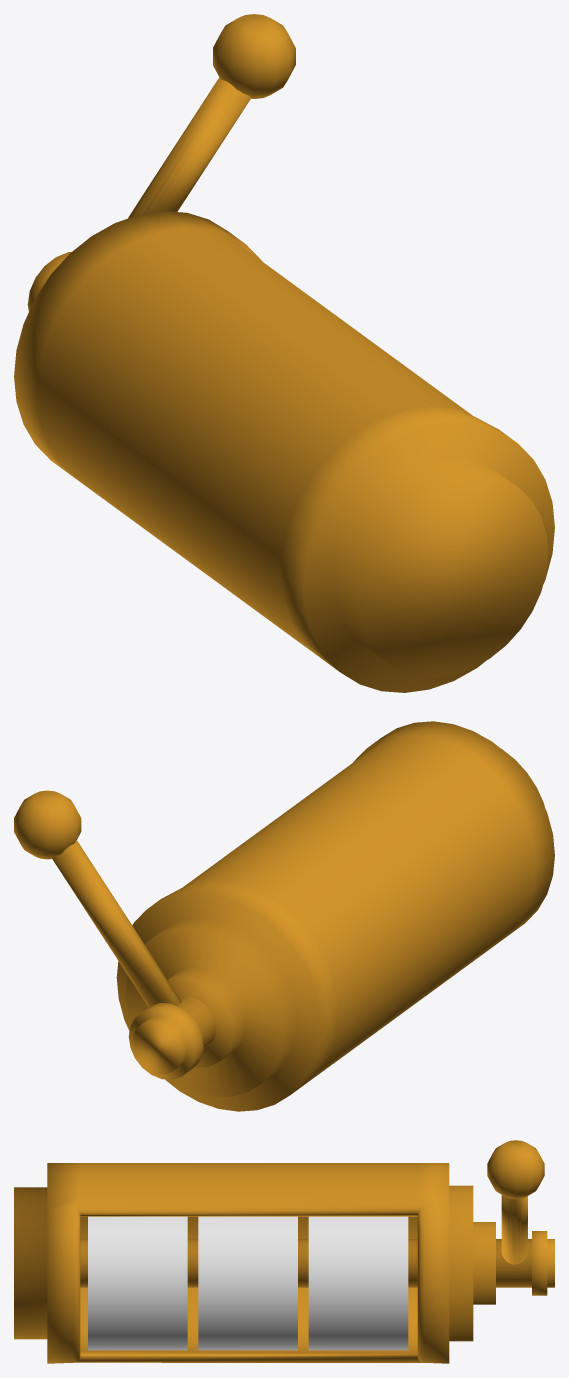
Rendered from slot1.fbx.
The picture shows the model from 3 angles, top to bottom: view 1: azimuth 30°, elevation 25°; view 2: azimuth 150°, elevation 25°; view 3: azimuth 270°, elevation 25°; orthographic projection. The views are drawn at different scales.
Visible parts, largest first — view 1: Cylinder, Cylinder.001; view 2: Cylinder, Cylinder.001; view 3: Cylinder, Cylinder.003, Cylinder.004, Cylinder.002, Cylinder.001.
Boxes of the visible parts, x1,y1,x2,y2 form: Cylinder: (14,211,554,692); Cylinder.001: (27,14,295,311); Cylinder: (116,721,554,1111); Cylinder.001: (14,790,216,1079); Cylinder: (14,1163,495,1363); Cylinder.003: (308,1216,408,1350); Cylinder.004: (198,1216,297,1350); Cylinder.002: (88,1216,187,1350); Cylinder.001: (80,1140,554,1295).
Bounding box in the file's own units: 258 × 290 × 538.
